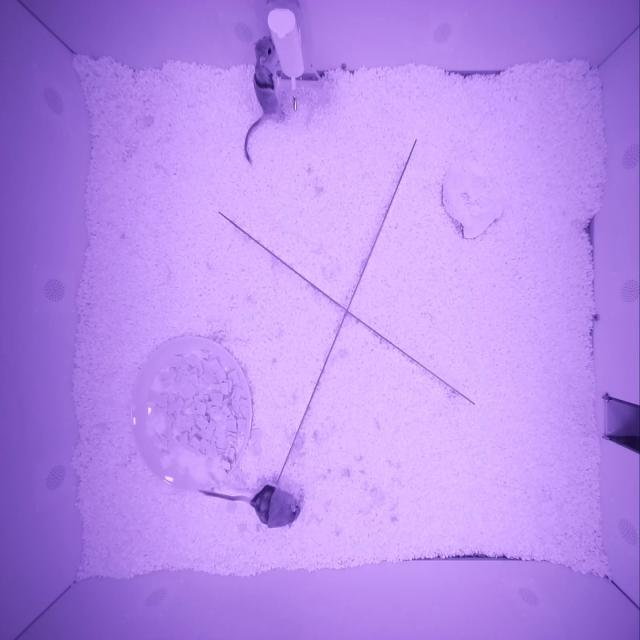adult_back: (252, 484, 300, 529)
adult_front: (252, 37, 281, 115)
